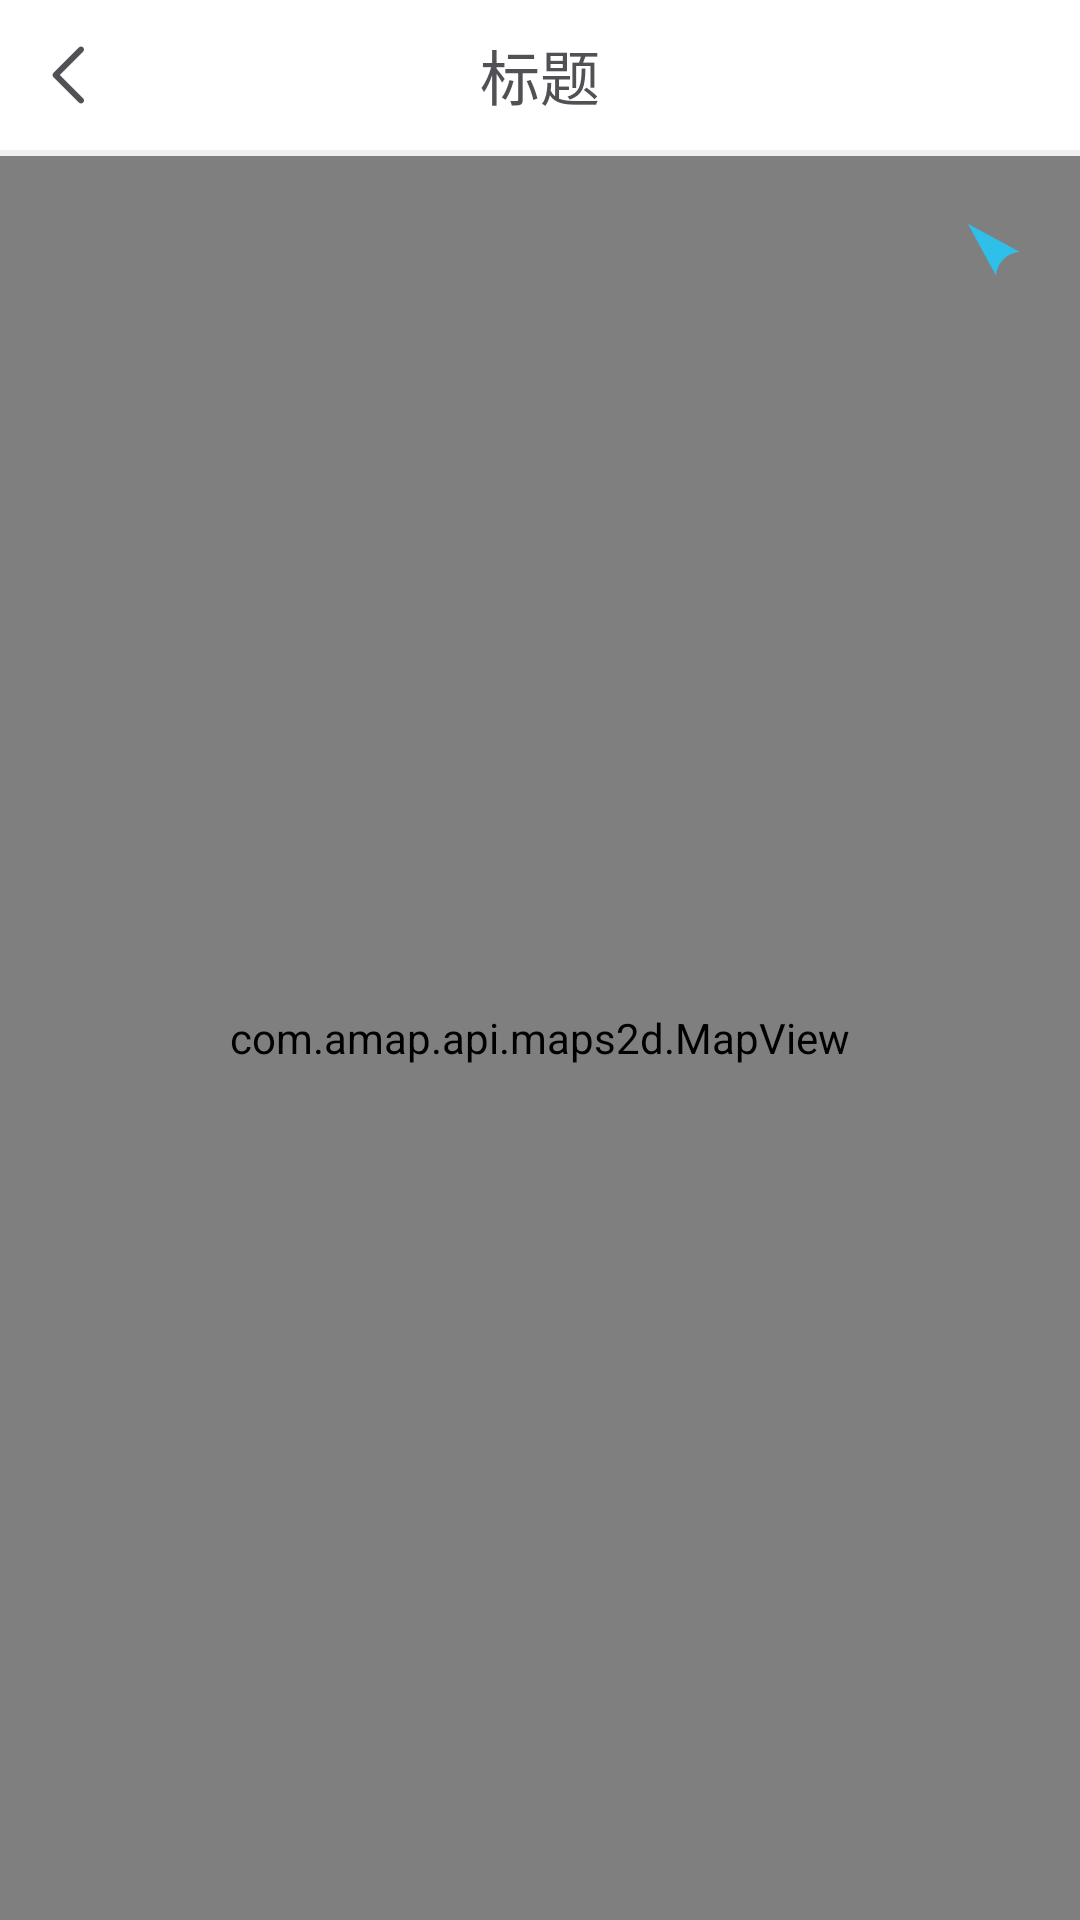

Icons on this 1080×1920 Android screen, each with the point to tap as (x=x, y=y):
back: (x=68, y=75)
